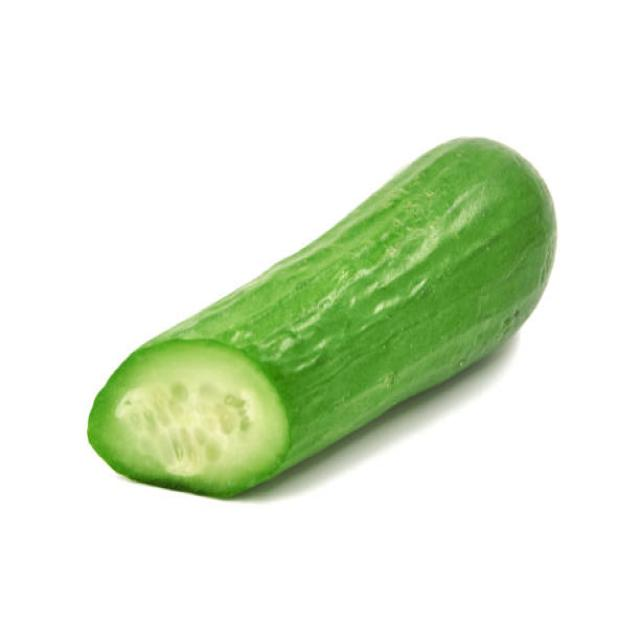cucumber: (86, 136, 560, 502)
